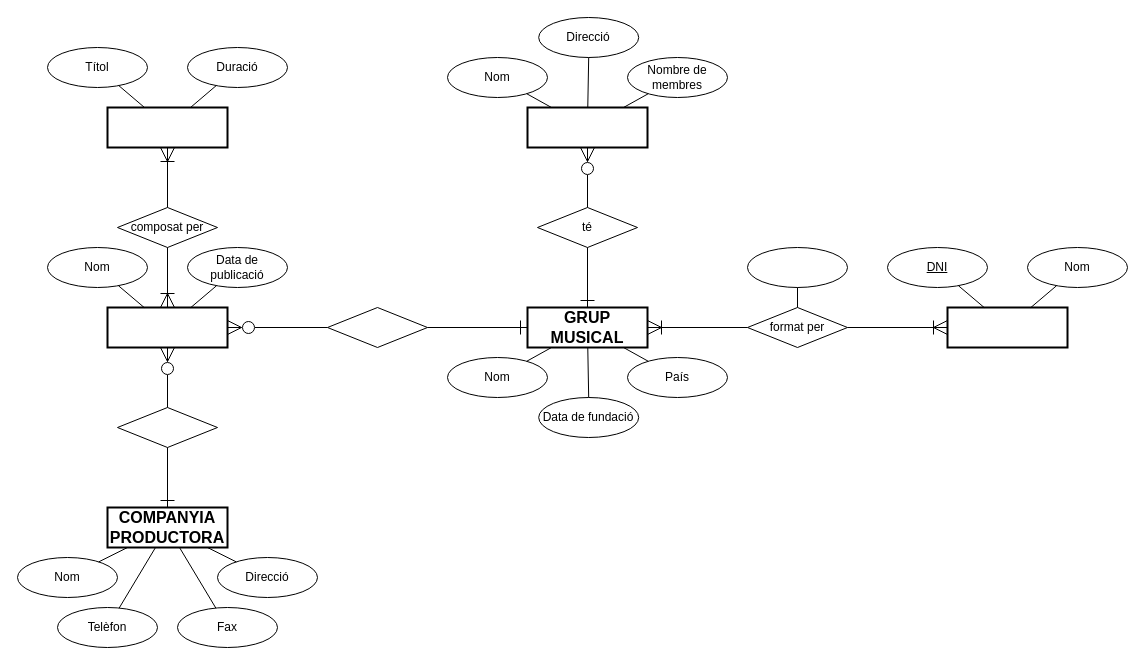
Some shapes in this 1145 by 665 pixel diagram are drawn without their labels. Here are the shapes that lost their labels. From the top down, the centre of each, then its label:
pixel 167 127: CANÇÓ
pixel 587 127: CLUB DE FANS
pixel 797 267: Rol
pixel 167 327: ÀLBUM
pixel 377 327: publica
pixel 1007 327: ARTISTA
pixel 167 427: produeix
